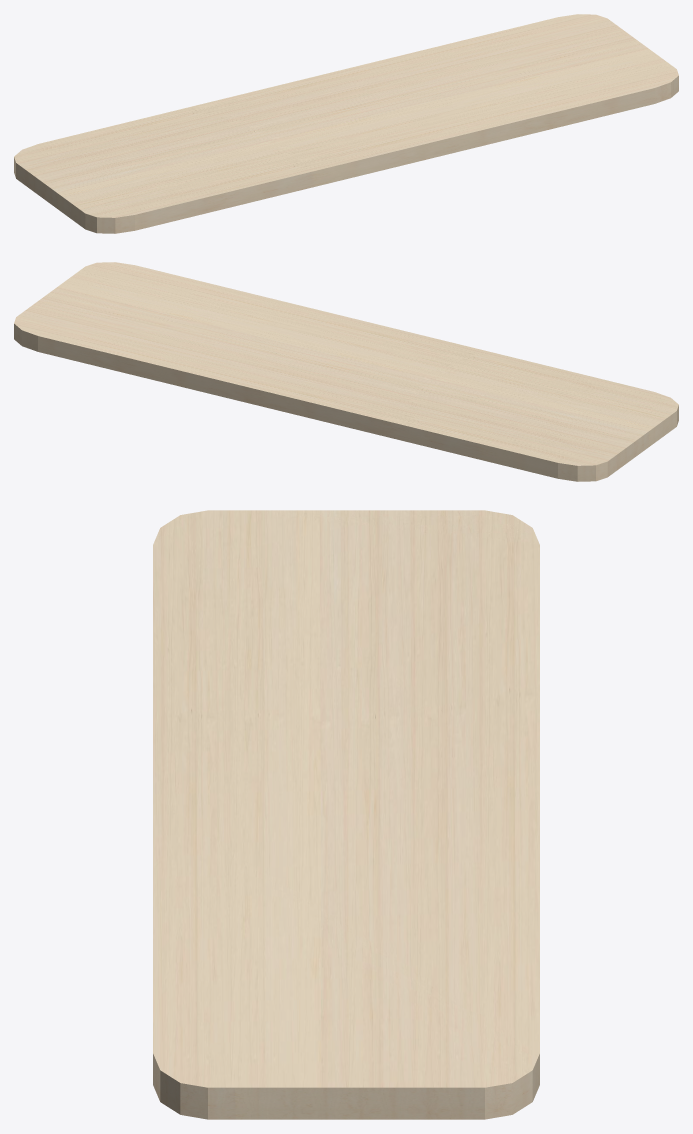
Rendered from Buzzy Blocks_tam go dung hex.fbx.
The picture shows the model from 3 angles, top to bottom: view 1: azimuth 30°, elevation 25°; view 2: azimuth 150°, elevation 25°; view 3: azimuth 270°, elevation 25°; orthographic projection. The views are drawn at different scales.
Visible parts, largest first — view 1: Cube; view 2: Cube; view 3: Cube.
Part boxes in pixels (x1,y1,x2,y2): Cube: [14, 14, 678, 233]; Cube: [14, 262, 678, 481]; Cube: [153, 510, 539, 1119].
Size of the model in its own units: 15.42 by 4.37 by 0.3966.
